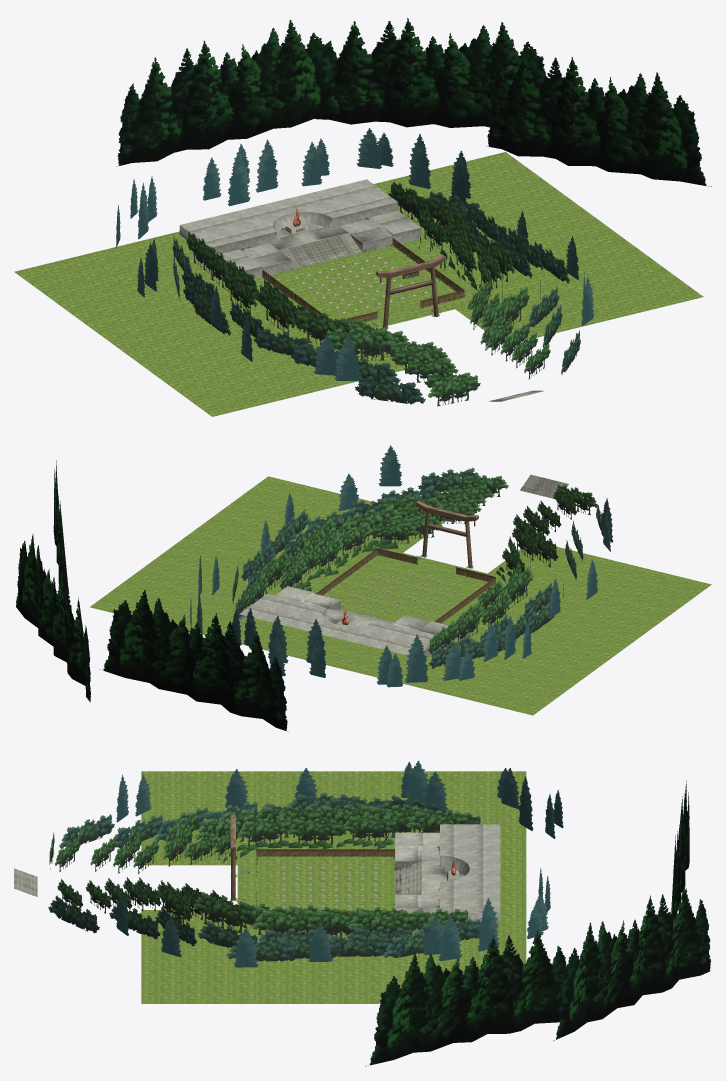
3 renders of one model, top to bottom at view 1: azimuth 30°, elevation 25°; view 2: azimuth 150°, elevation 25°; view 3: azimuth 270°, elevation 25°, orthographic. The views are drawn at different scales.
Parts seen in each view (by area): view 1: _0_Ground1_0_1_16_16, sa00zkic01_001.001, _1_Trees1_0_1_16_16, _0_Monument2_0_1_16_16, _1_Tree1_0_1_16_16, _1_Trees3_0_1_16_16, _0_Stairs_0_1_16_16, _0_Fence1_0_1_16_16, _0_Gate_0_1_16_16, _0_Tombstone1_0_1_16_16; view 2: _0_Ground1_0_1_16_16, sa00zkic01_001.001, _1_Trees1_0_1_16_16, _1_Tree1_0_1_16_16, _1_Trees3_0_1_16_16, _0_Monument2_0_1_16_16, _0_Fence1_0_1_16_16, _0_Gate_0_1_16_16, _0_Stairs_0_1_16_16, _0_Tombstone1_0_1_16_16, _1_Bush1_0_1_16_16, _1_Bush2_0_1_16_16; view 3: _0_Ground1_0_1_16_16, sa00zkic01_001.001, _1_Trees1_0_1_16_16, _1_Trees3_0_1_16_16, _1_Tree1_0_1_16_16, _0_Monument2_0_1_16_16, _0_Stairs_0_1_16_16, _0_Fence1_0_1_16_16, _0_Tombstone1_0_1_16_16, _1_Bush1_0_1_16_16.
Boxes of the visible parts, x1,y1,x2,y2 form: _0_Ground1_0_1_16_16: (14,152,703,416); sa00zkic01_001.001: (117,18,711,186); _1_Trees1_0_1_16_16: (186,181,550,406); _0_Monument2_0_1_16_16: (179,179,421,279); _1_Tree1_0_1_16_16: (116,128,594,380); _1_Trees3_0_1_16_16: (172,183,580,404); _0_Stairs_0_1_16_16: (279,233,543,401); _0_Fence1_0_1_16_16: (262,238,464,322); _0_Gate_0_1_16_16: (376,254,445,327); _0_Tombstone1_0_1_16_16: (294,257,428,314); _0_Ground1_0_1_16_16: (90,476,711,715); sa00zkic01_001.001: (16,460,288,731); _1_Trees1_0_1_16_16: (243,475,597,653); _1_Tree1_0_1_16_16: (190,445,613,687); _1_Trees3_0_1_16_16: (232,467,602,668); _0_Monument2_0_1_16_16: (239,586,455,659); _0_Fence1_0_1_16_16: (315,548,495,623); _0_Gate_0_1_16_16: (416,500,478,568); _0_Stairs_0_1_16_16: (329,474,568,623); _0_Tombstone1_0_1_16_16: (342,568,462,619); _1_Bush1_0_1_16_16: (297,542,509,619); _1_Bush2_0_1_16_16: (295,539,512,611); _0_Ground1_0_1_16_16: (141,771,526,1003); sa00zkic01_001.001: (365,780,710,1066); _1_Trees1_0_1_16_16: (49,805,471,938); _1_Trees3_0_1_16_16: (48,793,480,961); _1_Tree1_0_1_16_16: (116,760,563,967); _0_Monument2_0_1_16_16: (395,824,500,931); _0_Stairs_0_1_16_16: (14,861,421,896); _0_Fence1_0_1_16_16: (256,849,394,912); _0_Tombstone1_0_1_16_16: (282,866,377,907); _1_Bush1_0_1_16_16: (235,838,382,859).
Bounding box in the file's own units: 179 × 35.53 × 182.
Materials: 20 (20 with a texture image).
